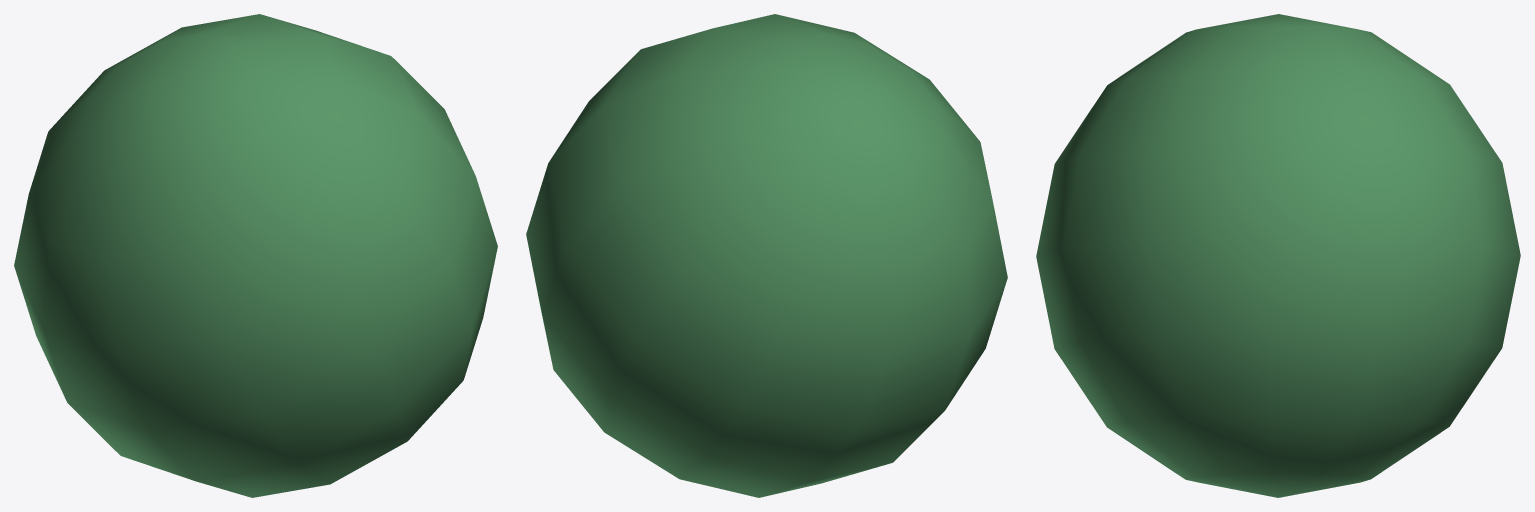
3 views of the same model, side by side, from view 1: azimuth 30°, elevation 25°; view 2: azimuth 150°, elevation 25°; view 3: azimuth 270°, elevation 25° (orthographic).
Visible parts, largest first — view 1: 左侧鼻唇淋巴结; view 2: 左侧鼻唇淋巴结; view 3: 左侧鼻唇淋巴结.
Part boxes in pixels (x1,y1,x2,y2): 左侧鼻唇淋巴结: (14, 14, 497, 497); 左侧鼻唇淋巴结: (526, 14, 1007, 497); 左侧鼻唇淋巴结: (1036, 14, 1520, 497).
Size of the model in its own units: 0.0038 by 0.00381 by 0.00383.
